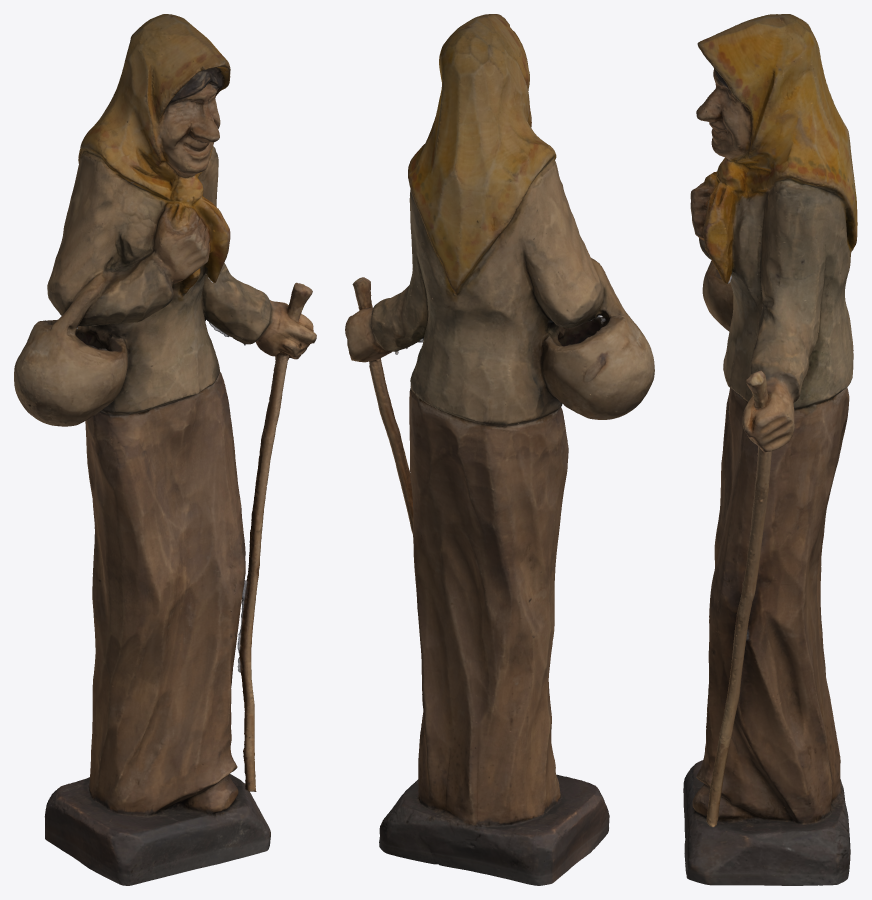
Rendered from MPLW_E_1489_lowpoly.glb.
3 views of the same model, side by side, from view 1: azimuth 30°, elevation 25°; view 2: azimuth 150°, elevation 25°; view 3: azimuth 270°, elevation 25° (orthographic). The views are drawn at different scales.
Visible parts, largest first — view 1: MPLW_E_1489_lowpoly; view 2: MPLW_E_1489_lowpoly; view 3: MPLW_E_1489_lowpoly.
Boxes of the visible parts, x1,y1,x2,y2 form: MPLW_E_1489_lowpoly: (14,14,316,885); MPLW_E_1489_lowpoly: (345,14,654,885); MPLW_E_1489_lowpoly: (683,14,857,885).
Bounding box in the file's own units: 0.1739 × 0.4569 × 0.0862.
Materials: 1 (1 with a texture image).
